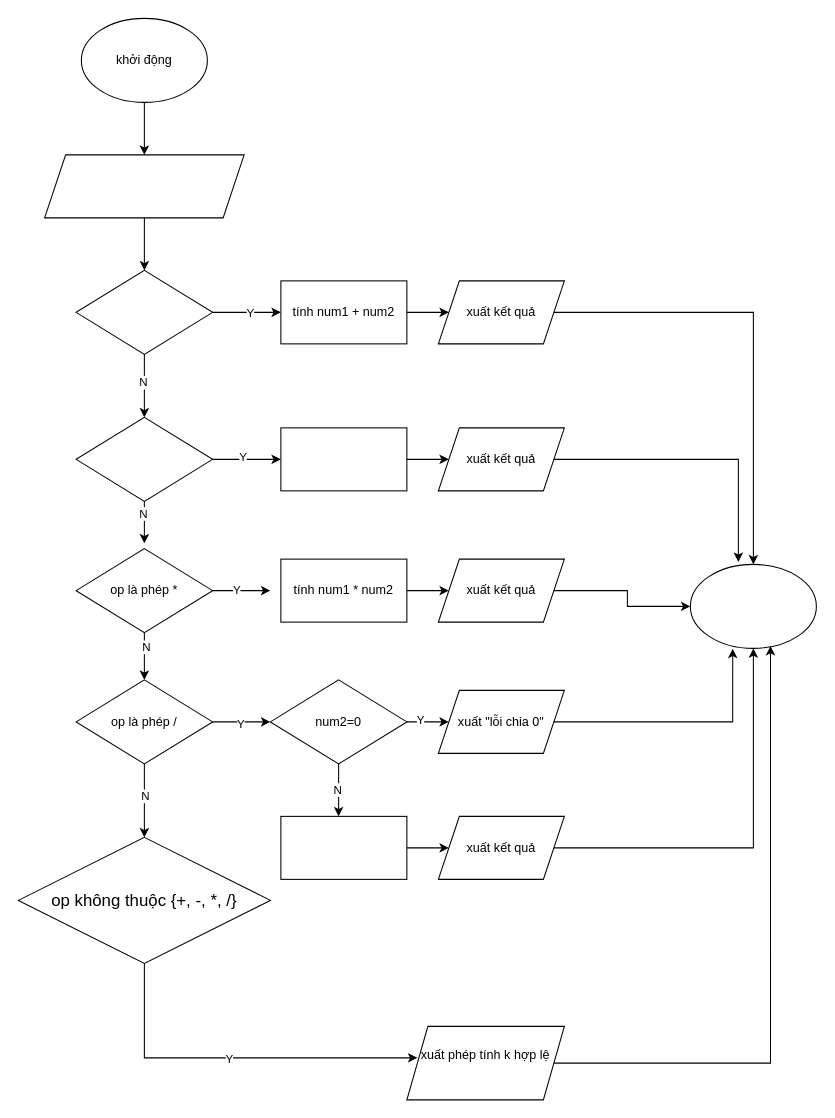
Image size: 835x1118. Some labels were removed from this diagram. The shapes that lost their labels are listed below. From the top down, each one's centre as x and y in pixels, then its label:
[144,186]: nhập num1,num2 và phép op
[144,311]: op là phép +
[144,458]: op là phép -
[343,459]: tính num1 - num2
[752,605]: kết thúc
[343,847]: tính num1 / num2
